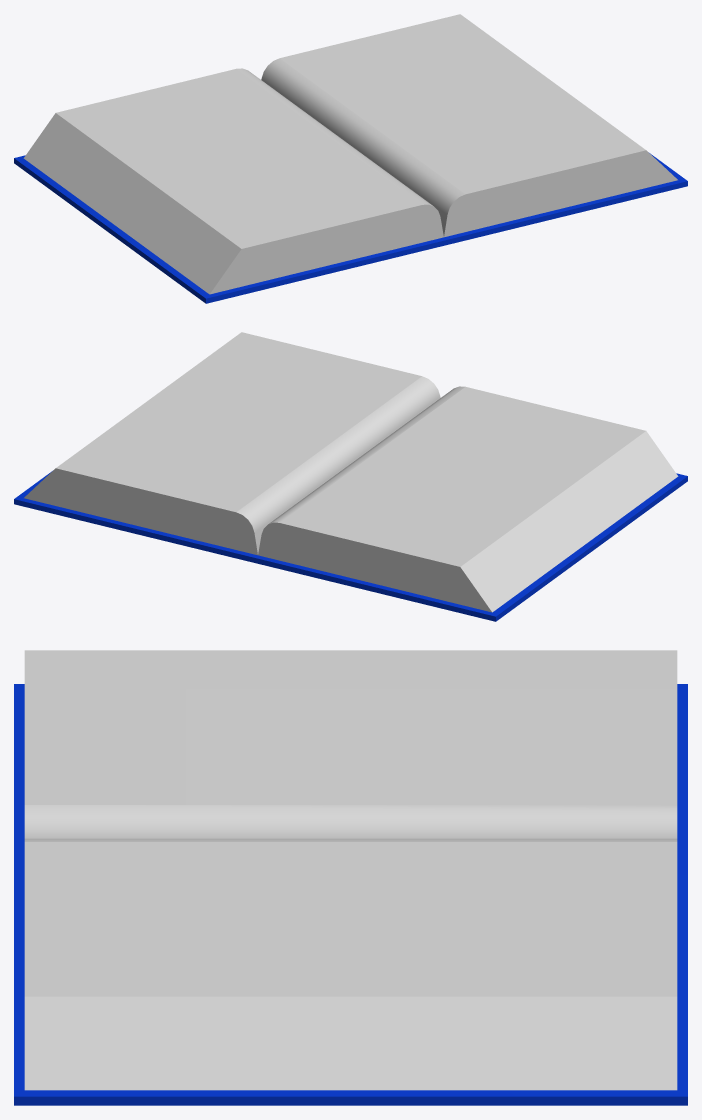
The model's file is Book_Open_Blue.fbx.
3 views of the same model, one above another, from view 1: azimuth 30°, elevation 25°; view 2: azimuth 150°, elevation 25°; view 3: azimuth 270°, elevation 25° (orthographic). The views are drawn at different scales.
Visible parts, largest first — view 1: Book_Open_Blue; view 2: Book_Open_Blue; view 3: Book_Open_Blue.
Part boxes in pixels (x1,y1,x2,y2): Book_Open_Blue: (14,14,687,303); Book_Open_Blue: (14,332,687,621); Book_Open_Blue: (14,650,687,1105).
Size of the model in its own units: 39.42 by 3.38 by 27.21.
